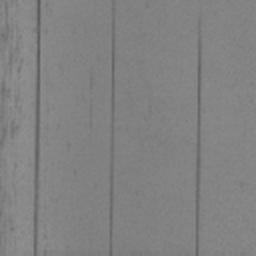Scratches: (32, 0, 42, 256), (195, 0, 204, 256), (108, 0, 116, 256)
